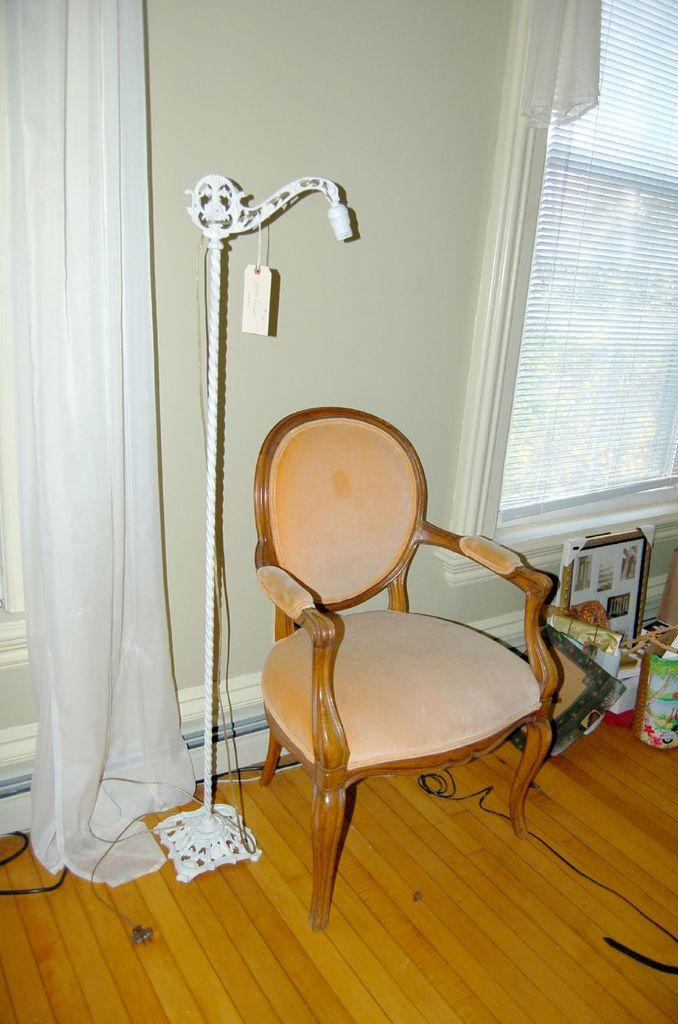Chair: (245, 396, 567, 944)
